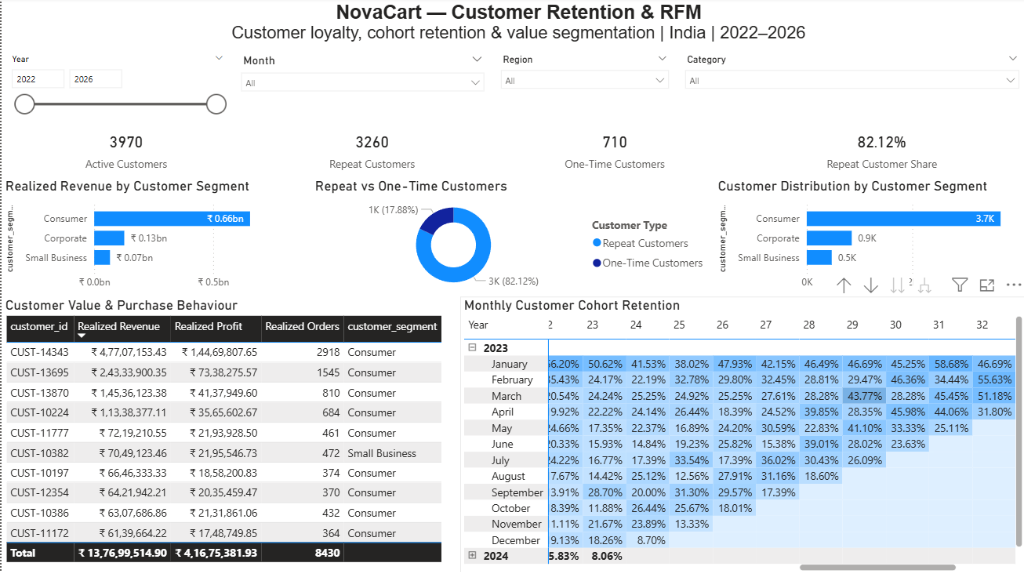

The dashboard page shown, as its layout file describes it:
{"tool":"powerbi","page":{"name":"Customer Retention","canvas":[1280,720],"ordinal":5},"visuals":[{"type":"textbox","box":[9.8,0,1270.5,127.2],"z":0},{"type":"slicer","title":"YEAR","fields":{"Values":["dim_date.year"]},"box":[0,65,288.8,87.5],"z":1},{"type":"slicer","title":"MONTH","fields":{"Values":["dim_date.month_name"]},"box":[288.8,65,323.8,87.5],"z":2},{"type":"slicer","title":"REGION","fields":{"Values":["dim_location.region"]},"box":[612.5,65,230,87.5],"z":3},{"type":"slicer","title":"CATEGORY","fields":{"Values":["dim_product.category"]},"box":[842.5,65,437.5,87.5],"z":4},{"type":"card","fields":{"Values":["_Measures.Active Customers"]},"box":[0,152.5,311.2,72.5],"z":5},{"type":"card","fields":{"Values":["_Measures.Repeat Customers"]},"box":[311.2,152.5,301.2,72.5],"z":6},{"type":"card","fields":{"Values":["_Measures.One-Time Customers"]},"box":[612.5,152.5,305,72.5],"z":7},{"type":"card","fields":{"Values":["Customer Type.Repeat Customer Share"]},"box":[917.5,152.5,362.5,72.5],"z":8},{"type":"donutChart","title":"Repeat vs One-Time Customers","fields":{"Category":["Customer Type.Customer Type"],"Y":["_Measures.Customer Type Count"]},"box":[387,225,502.2,148.2],"z":9},{"type":"clusteredBarChart","title":"Customer Distribution by Customer Segment","fields":{"Category":["dim_customer.customer_segment"],"Y":["Customer Type.Customer Segment Count"]},"box":[889.2,225,391.1,148.2],"z":10},{"type":"clusteredBarChart","title":"Realized Revenue by Customer Segment","fields":{"Category":["dim_customer.customer_segment"],"Y":["_Measures.Realized Revenue"]},"box":[0,225,387,148.2],"z":11},{"type":"tableEx","title":"Customer Value & Purchase Behaviour","fields":{"Values":["dim_customer.customer_id","_Measures.Realized Revenue","_Measures.Realized Profit","_Measures.Realized Orders","dim_customer.customer_segment"]},"box":[0,373.2,572.2,347.2],"z":12},{"type":"pivotTable","title":"Monthly Customer Cohort Retention","fields":{"Columns":["public vw_cohort_retention.months_since_first_purchase"],"Values":["Customer Type.Cohort Retention %"],"Rows":["public vw_cohort_retention.cohort_month.Variation.Date Hierarchy.Year","public vw_cohort_retention.cohort_month.Variation.Date Hierarchy.Month"]},"box":[572.3,373,706.8,347.3],"z":13}]}

Visuals, with their boxes in screenshot pixels (x1, y1, x2, y2), scaled from the page's 1280x720 canvas onto the 1024x572 screenshot:
textbox: box=[8, 0, 1023, 101]
"YEAR" slicer: box=[0, 52, 231, 121]
"MONTH" slicer: box=[231, 52, 490, 121]
"REGION" slicer: box=[490, 52, 674, 121]
"CATEGORY" slicer: box=[674, 52, 1023, 121]
card - _Measures.Active Customers: box=[0, 121, 249, 179]
card - _Measures.Repeat Customers: box=[249, 121, 490, 179]
card - _Measures.One-Time Customers: box=[490, 121, 734, 179]
card - Customer Type.Repeat Customer Share: box=[734, 121, 1023, 179]
"Repeat vs One-Time Customers" donutChart: box=[310, 179, 711, 296]
"Customer Distribution by Customer Segment" clusteredBarChart: box=[711, 179, 1023, 296]
"Realized Revenue by Customer Segment" clusteredBarChart: box=[0, 179, 310, 296]
"Customer Value & Purchase Behaviour" tableEx: box=[0, 296, 458, 571]
"Monthly Customer Cohort Retention" pivotTable: box=[458, 296, 1023, 571]
